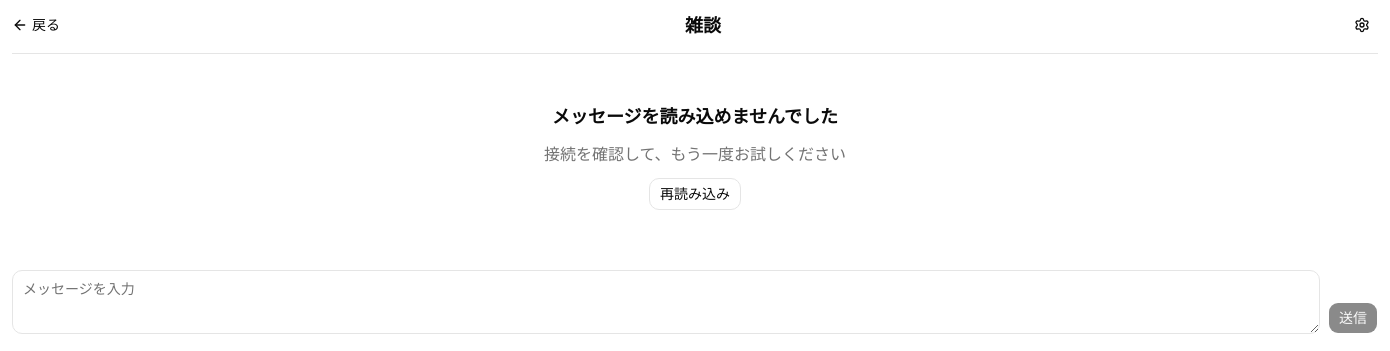
ChatView › 取得に失敗すると toast と失敗表示を出し、再読み込みで取り直せる
Expected: the heading "メッセージを読み込めませんでした" is shown, [552,102,838,130]
What coordinates should you click on to do the following:
click the button "再読み込み"
I would click on:
 (695, 194)
Its box is [649,178,741,210].
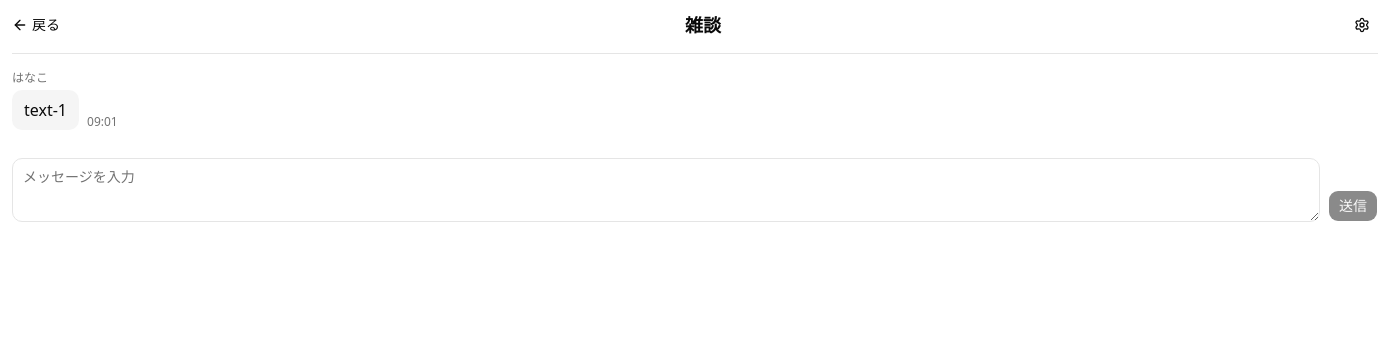
Expected: the text "text-1" is shown, [12,90,79,130]
